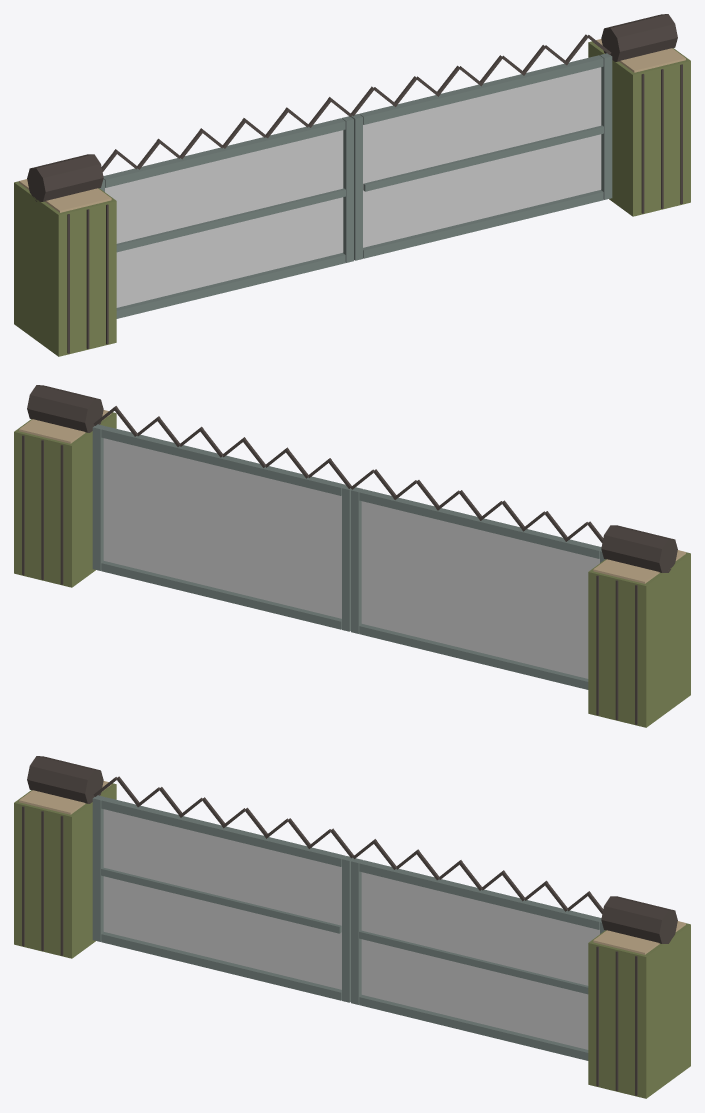
The model's file is SM_PuertaVehiculos_v3_MallaEspino_e0_Sano_LOD0.fbx.
3 views of the same model, one above another, from view 1: azimuth 30°, elevation 25°; view 2: azimuth 150°, elevation 25°; view 3: azimuth 330°, elevation 25° (orthographic).
Parts seen in each view (by area): view 1: Hoja_E, Hoja_O, SM_bloques.puerta_estados_v12_LOD0; view 2: Hoja_E, Hoja_O, SM_bloques.puerta_estados_v12_LOD0; view 3: Hoja_O, Hoja_E, SM_bloques.puerta_estados_v12_LOD0.
Part boxes in pixels (bbox=[...]): Hoja_E: bbox=[351, 34, 612, 260]; Hoja_O: bbox=[99, 97, 353, 318]; SM_bloques.puerta_estados_v12_LOD0: bbox=[14, 14, 690, 356]; Hoja_E: bbox=[92, 406, 351, 631]; Hoja_O: bbox=[350, 469, 605, 689]; SM_bloques.puerta_estados_v12_LOD0: bbox=[14, 385, 690, 727]; Hoja_O: bbox=[92, 776, 353, 1002]; Hoja_E: bbox=[351, 839, 605, 1060]; SM_bloques.puerta_estados_v12_LOD0: bbox=[14, 756, 690, 1098].
Bounding box in the file's own units: 9.8 × 2.55 × 1.24.
